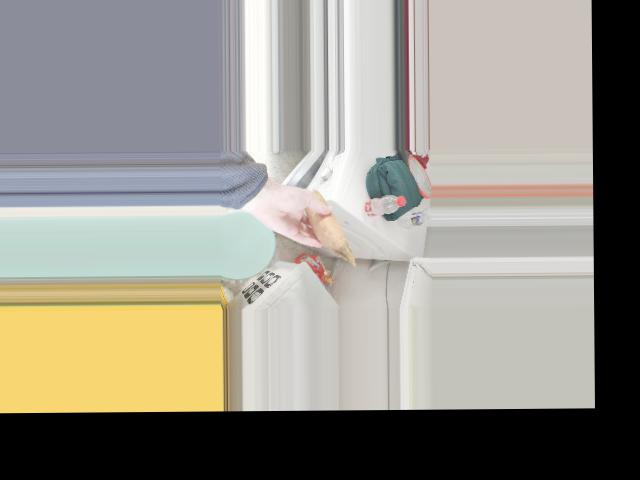sweet_potato: (302, 197, 343, 244)
